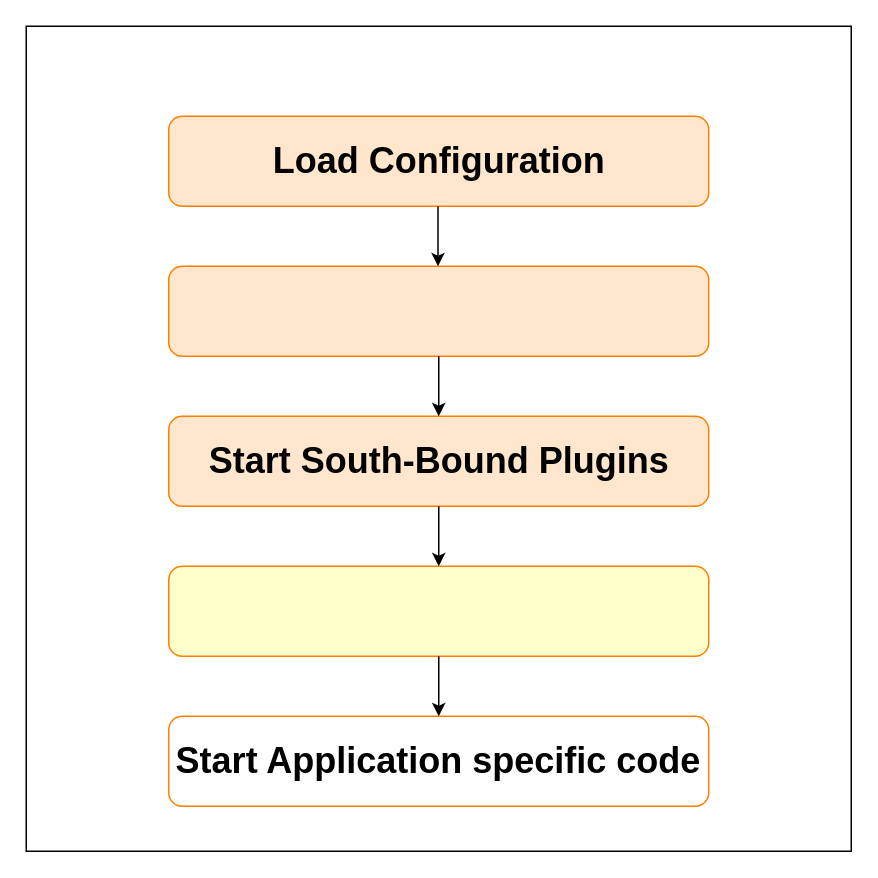
Image size: 878x878. Some labels were removed from this diagram. The shapes that lost their labels are listed below. From the top down, each one's centre as x and y in pixels, then its label:
(438,310): Start LightyController
(438,610): Start North-Bound Plugins
